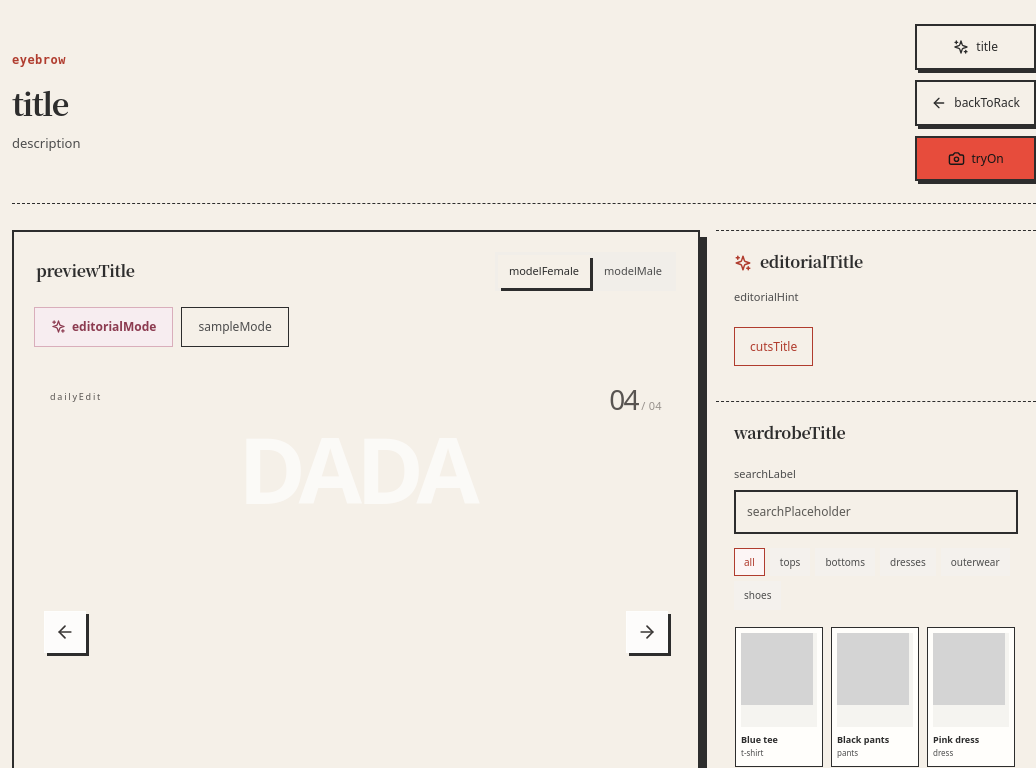
Test case: 3D avatar workspace › can return from a category to all real wardrobe items
This screenshot has width=1036, height=768.
Click the button "dresses" at (908, 562), box [880, 548, 936, 576]
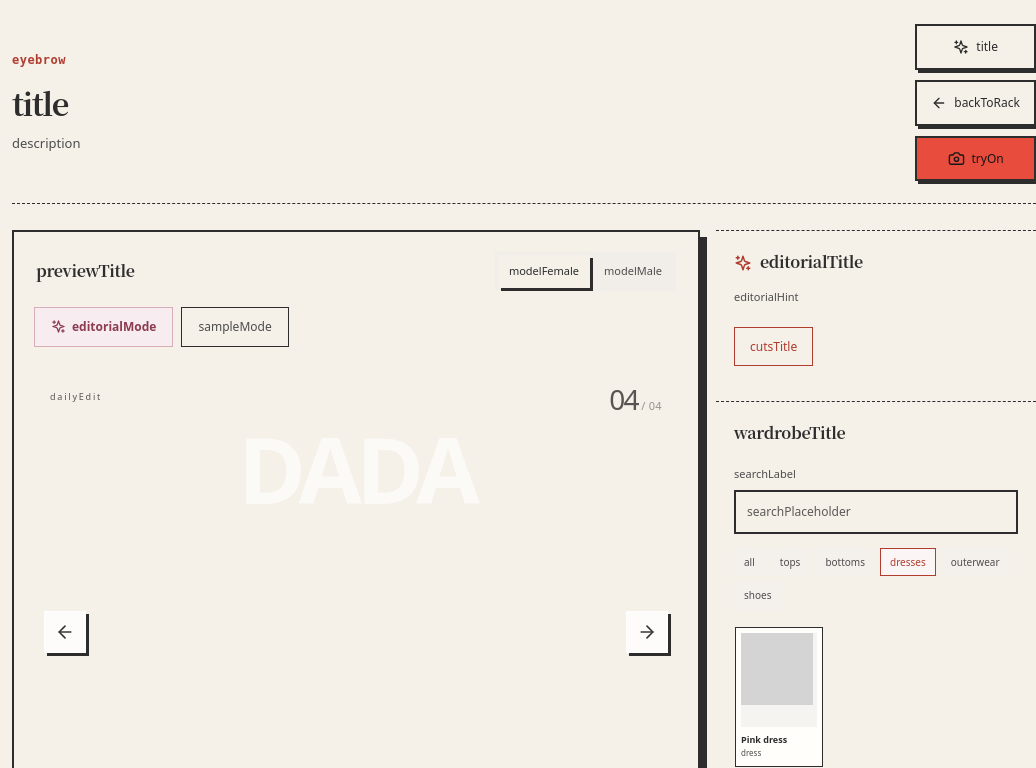
Click the button "all" at (749, 562), box [734, 548, 765, 576]
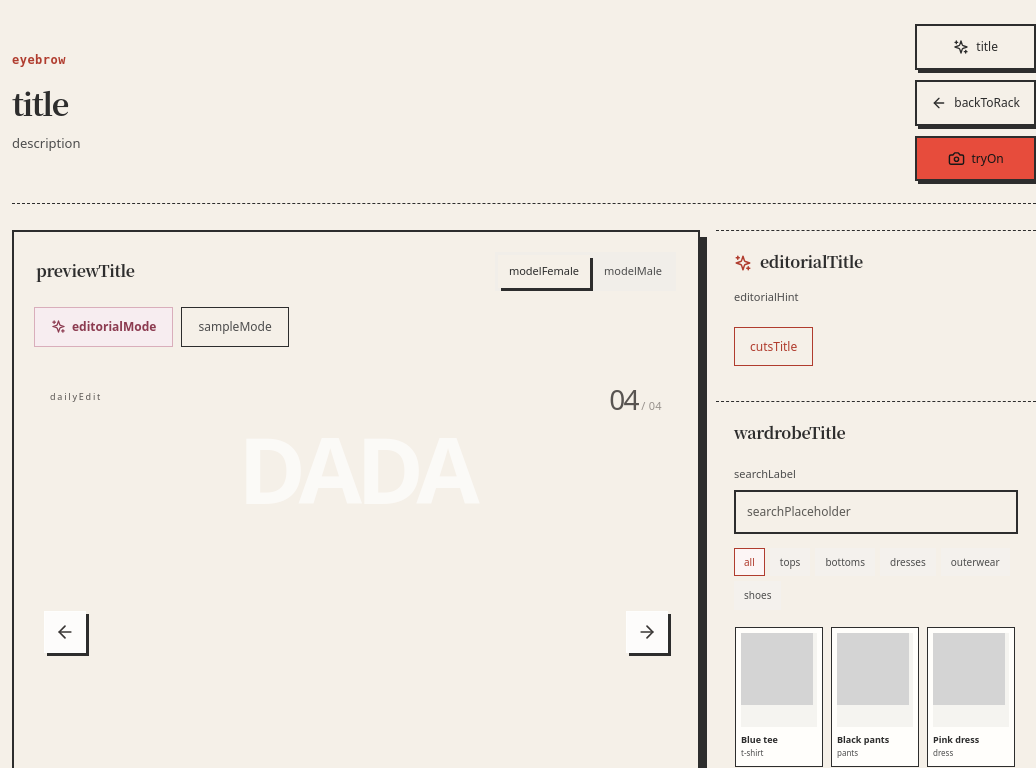
Now the button with aria-label "chooseItem Blue tee" is shown, box [735, 627, 823, 767]
